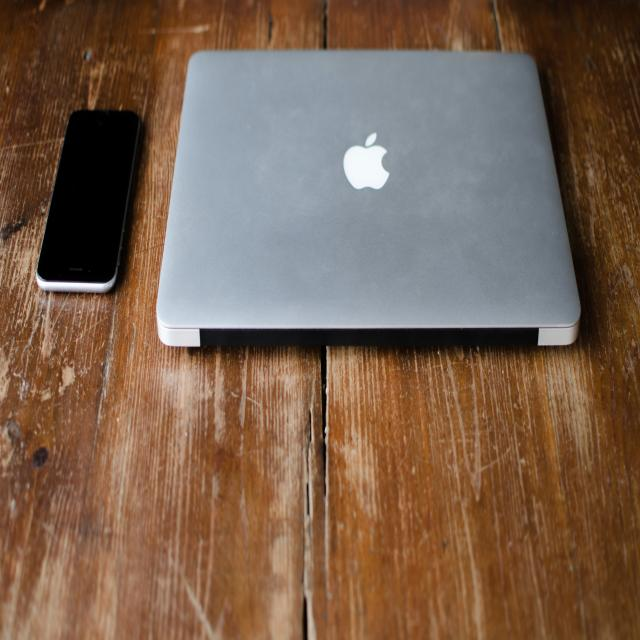laptop: (155, 48, 581, 350)
